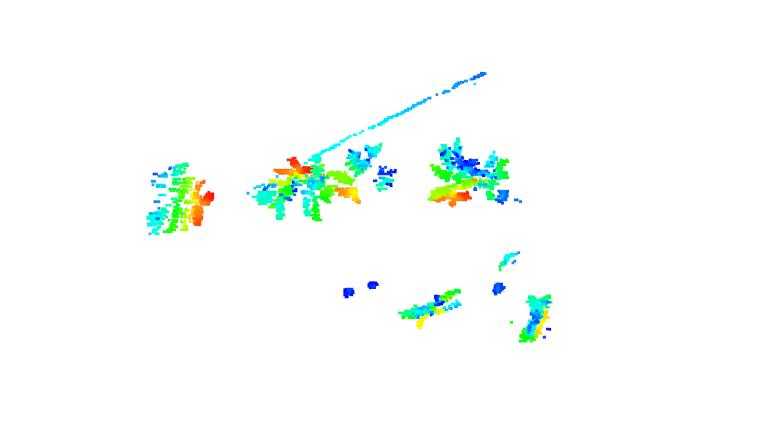chickpea: (427, 138, 515, 209), (145, 158, 219, 240), (332, 126, 404, 209), (241, 152, 327, 220), (399, 288, 471, 331), (515, 285, 558, 347)
